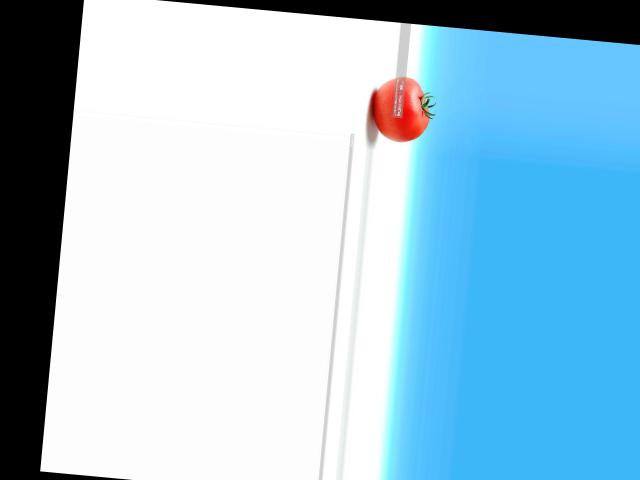tomato: (371, 73, 433, 143)
